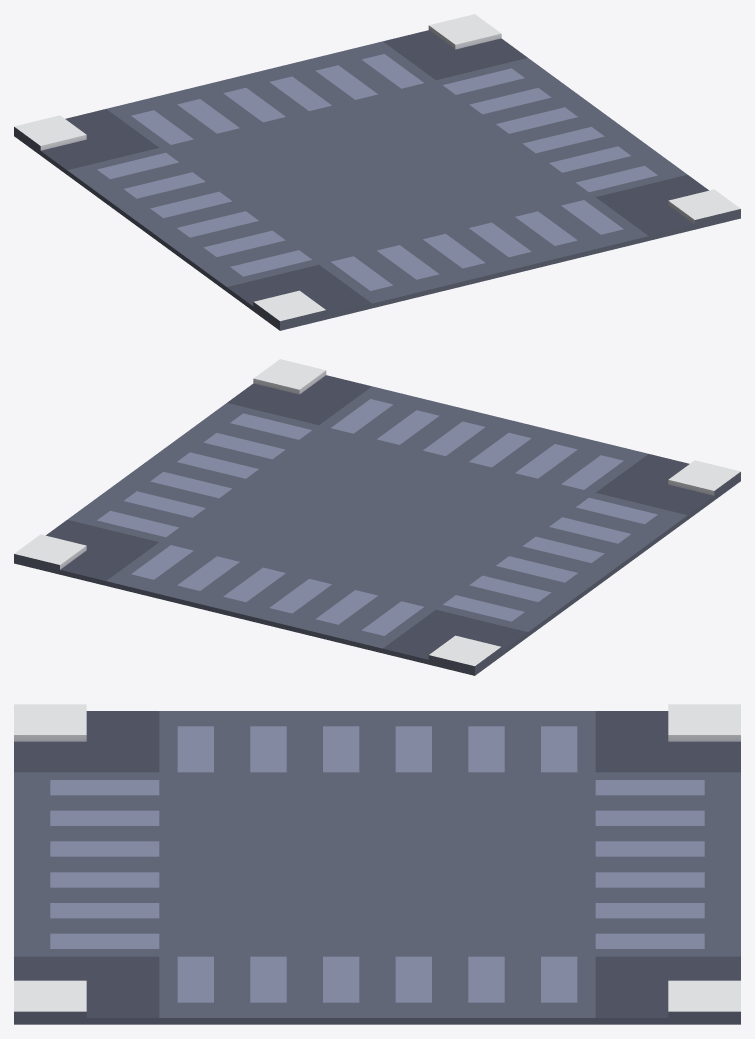
Rendered from kenney-city-roads-road-crossroad-path.glb.
3 views of the same model, one above another, from view 1: azimuth 30°, elevation 25°; view 2: azimuth 150°, elevation 25°; view 3: azimuth 270°, elevation 25° (orthographic). The views are drawn at different scales.
Parts seen in each view (by area): view 1: road-crossroad-path; view 2: road-crossroad-path; view 3: road-crossroad-path.
Part boxes in pixels (x1,y1,x2,y2): road-crossroad-path: [14, 14, 740, 330]; road-crossroad-path: [14, 359, 740, 675]; road-crossroad-path: [14, 704, 740, 1024].
Bounding box in the file's own units: 1 × 0.02 × 1.
Materials: 1 (1 with a texture image).
